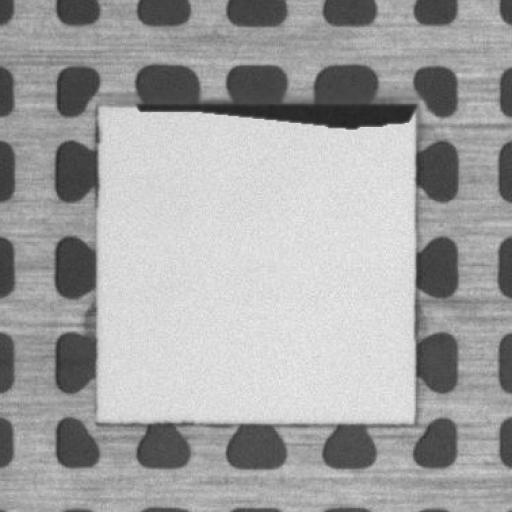DIE_BROKEN: (130, 100, 419, 130)
